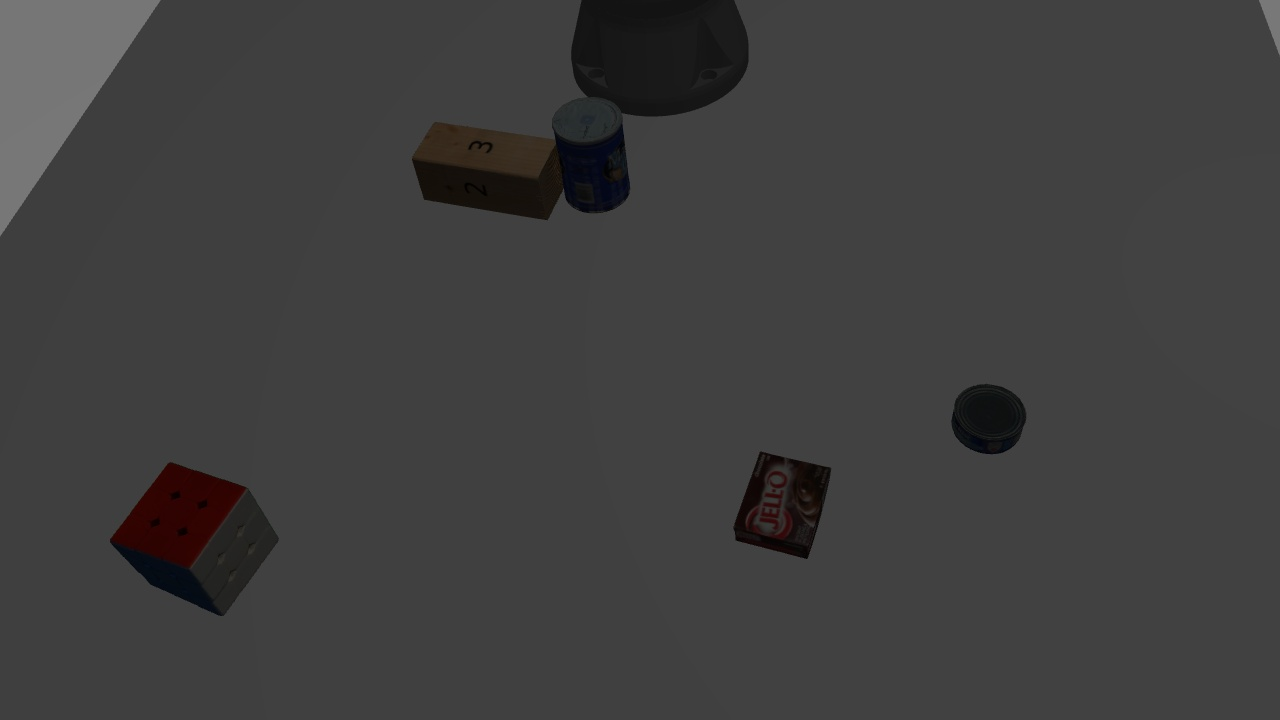master_chef_can: (549, 90, 638, 212)
pudding_box: (728, 446, 833, 564)
rubiks_cube: (104, 459, 281, 615)
tuna_fish_can: (946, 388, 1034, 461)
wood_block: (407, 108, 562, 228)
